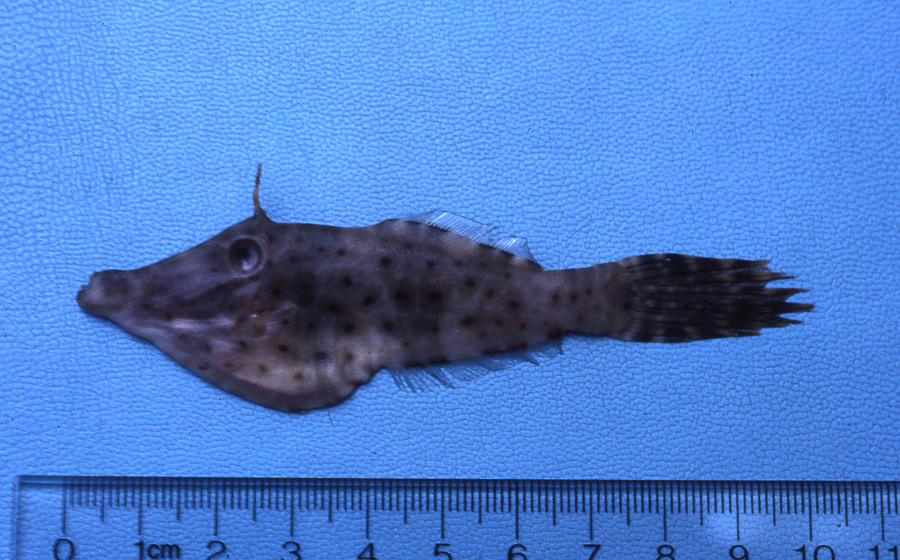Aluterus_scriptus: (71, 155, 824, 426)
